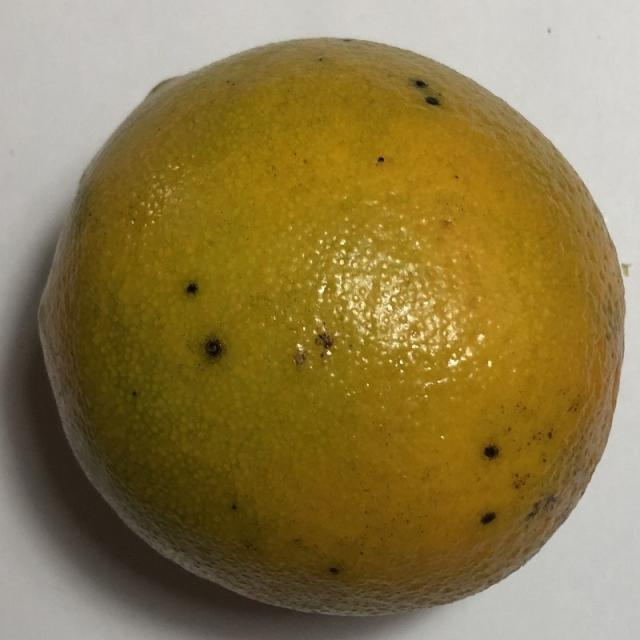blackspot: (22, 8, 639, 634)
